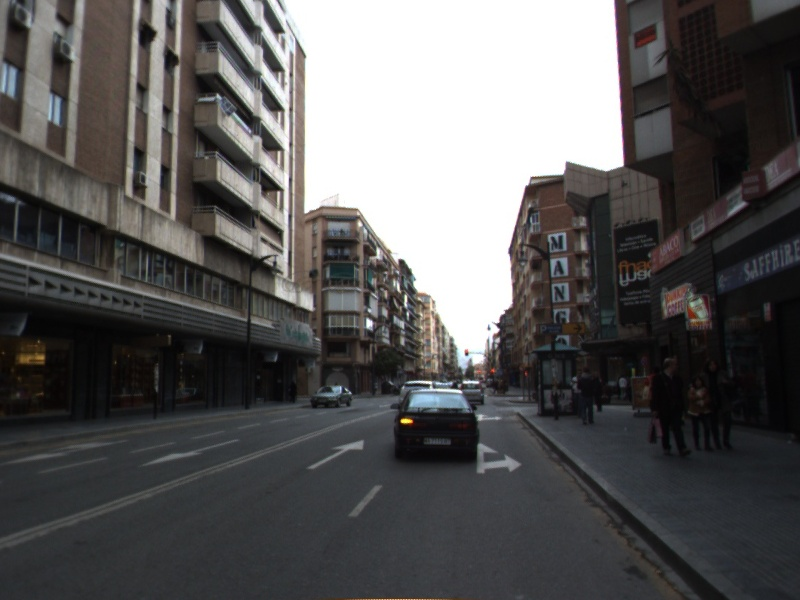STRAIGHT: (305, 438, 366, 471)
STRAIGHT_RIGHT: (475, 441, 524, 475), (475, 411, 505, 423)
